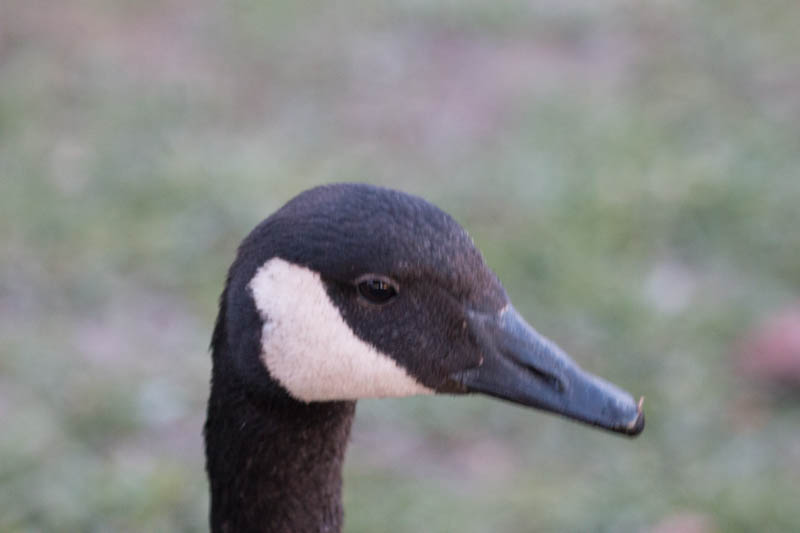goose-head: (210, 184, 645, 437)
